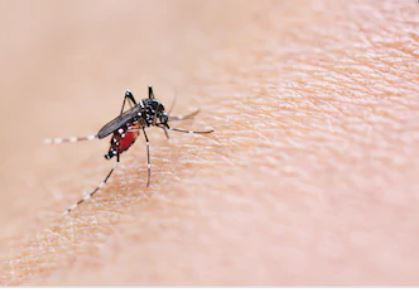dengue_mosquito: (56, 85, 181, 187)
